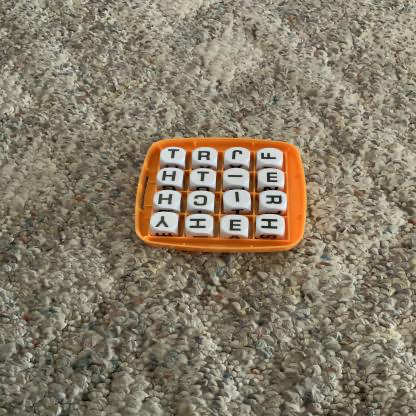c: (191, 192, 214, 210)
e: (225, 217, 250, 234), (260, 170, 285, 186)
f: (258, 149, 283, 165)
h: (187, 216, 214, 233), (259, 216, 284, 234), (160, 169, 182, 186), (157, 192, 179, 208)
i: (225, 190, 252, 207), (226, 169, 248, 185)
j: (230, 148, 247, 163)
r: (263, 192, 288, 210), (196, 150, 214, 163)
t: (193, 168, 216, 186), (166, 148, 184, 162)
y: (154, 214, 176, 231)
